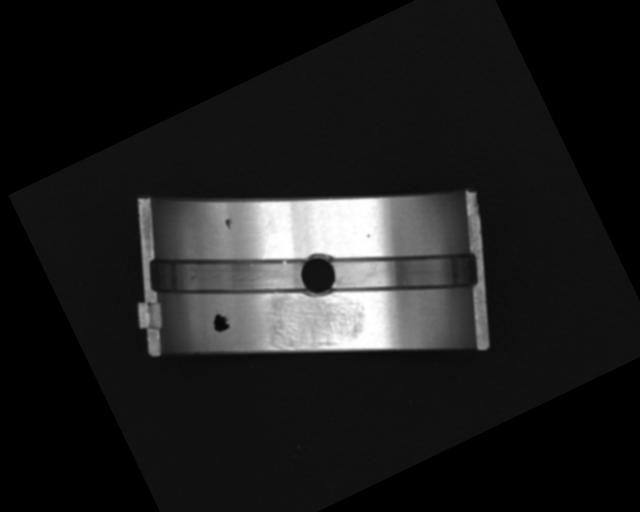blot: (208, 310, 233, 334)
bruise: (221, 215, 236, 231), (365, 232, 371, 238)
gap: (139, 202, 314, 350), (323, 202, 490, 342)
hole: (287, 244, 347, 305)
nick: (248, 221, 283, 260)
scratch: (250, 264, 376, 375)
